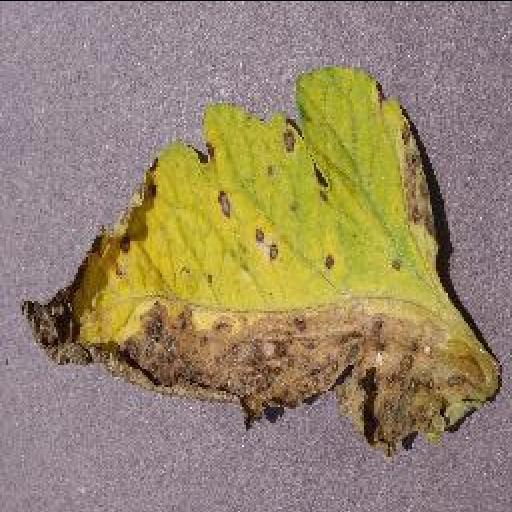disease_tomato: (18, 68, 504, 445)
